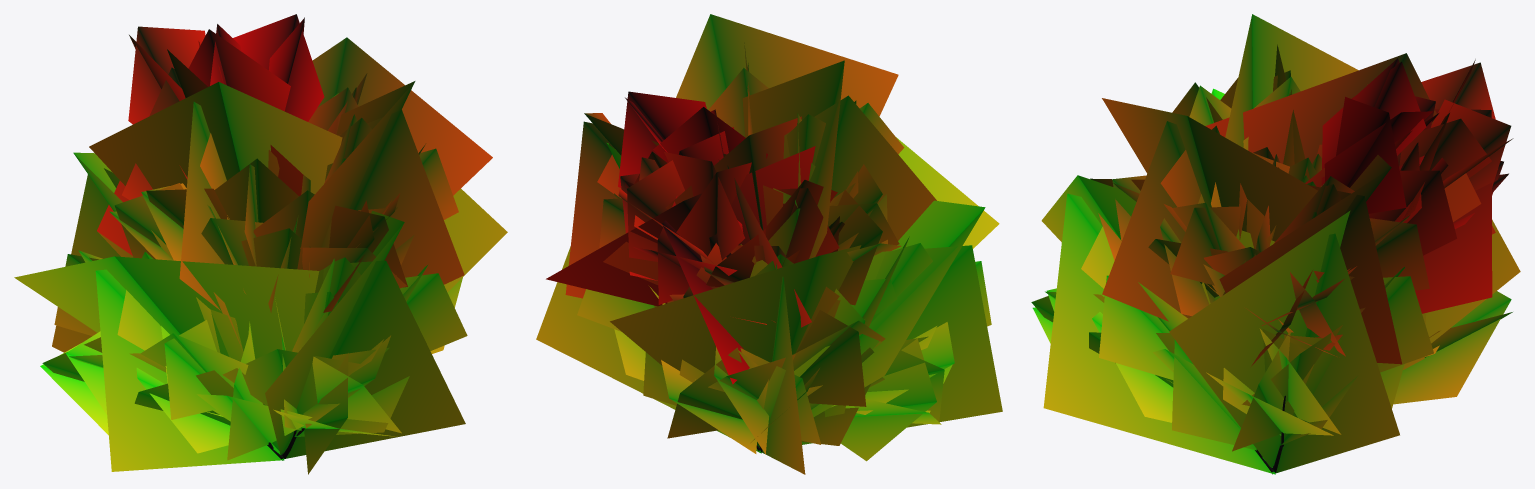
Rendered from linden_tree_11.FBX.
3 views of the same model, side by side, from view 1: azimuth 30°, elevation 25°; view 2: azimuth 150°, elevation 25°; view 3: azimuth 270°, elevation 25° (orthographic). The views are drawn at different scales.
Visible parts, largest first — view 1: linden_leaves_shadow, linden_leaves_lod_0; view 2: linden_leaves_shadow, linden_leaves_lod_0; view 3: linden_leaves_shadow, linden_leaves_lod_0.
Part boxes in pixels (x1,y1,x2,y2): linden_leaves_shadow: [14, 37, 507, 471]; linden_leaves_lod_0: [40, 14, 467, 474]; linden_leaves_shadow: [536, 14, 1002, 474]; linden_leaves_lod_0: [577, 63, 991, 461]; linden_leaves_shadow: [1041, 14, 1520, 474]; linden_leaves_lod_0: [1031, 58, 1513, 451].
Size of what is drawn, in the model's own units: 5.77 by 5.67 by 5.95.
